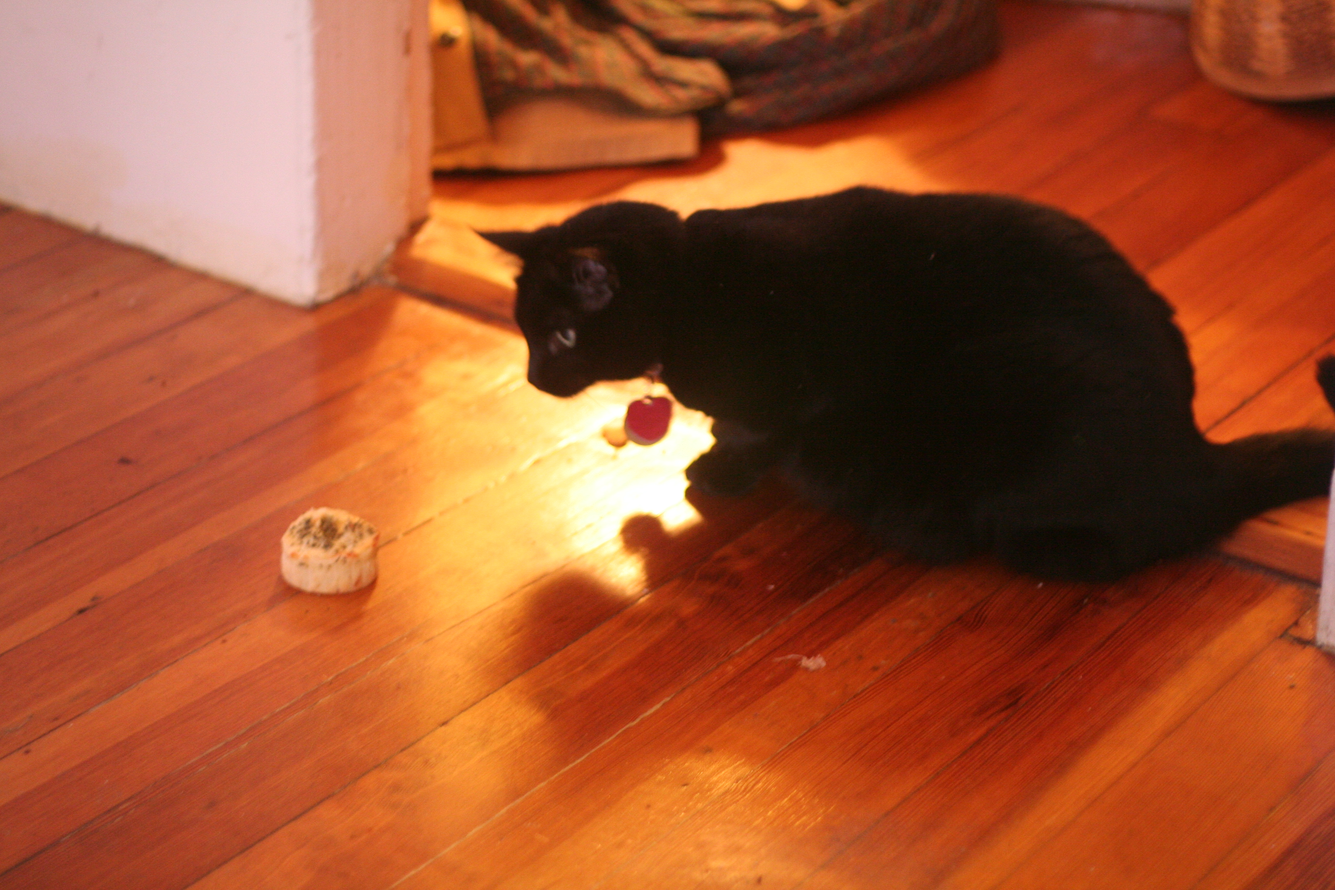cat: (466, 179, 1334, 594)
